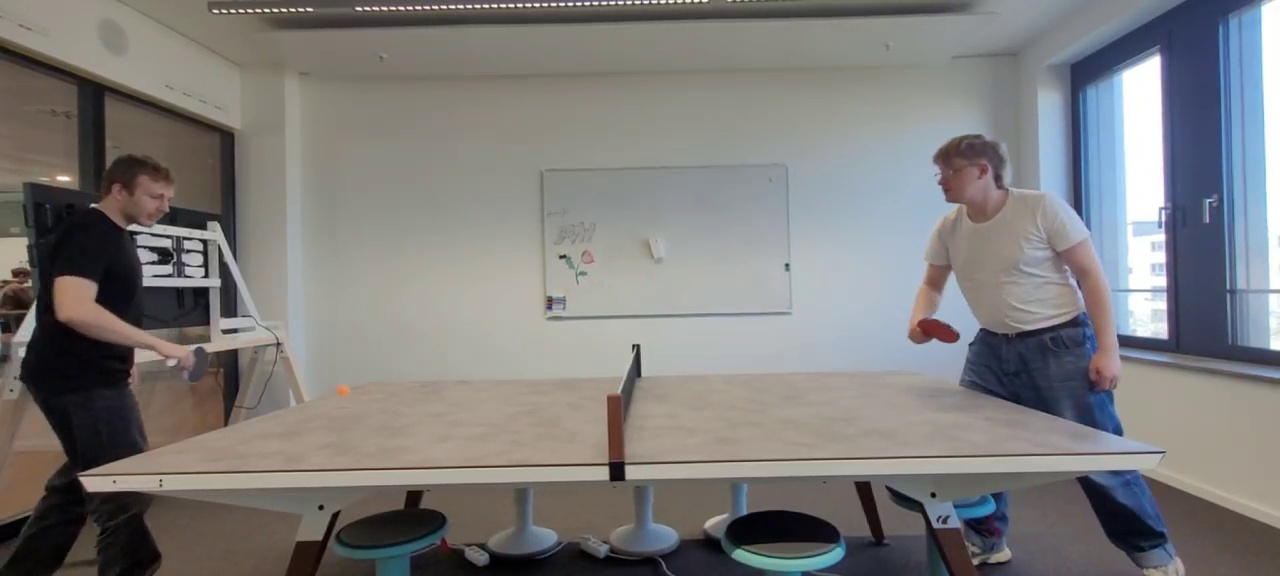plate: (77, 368, 1165, 475)
racket: (917, 319, 959, 343), (184, 345, 209, 384)
ttball: (337, 385, 348, 396)
